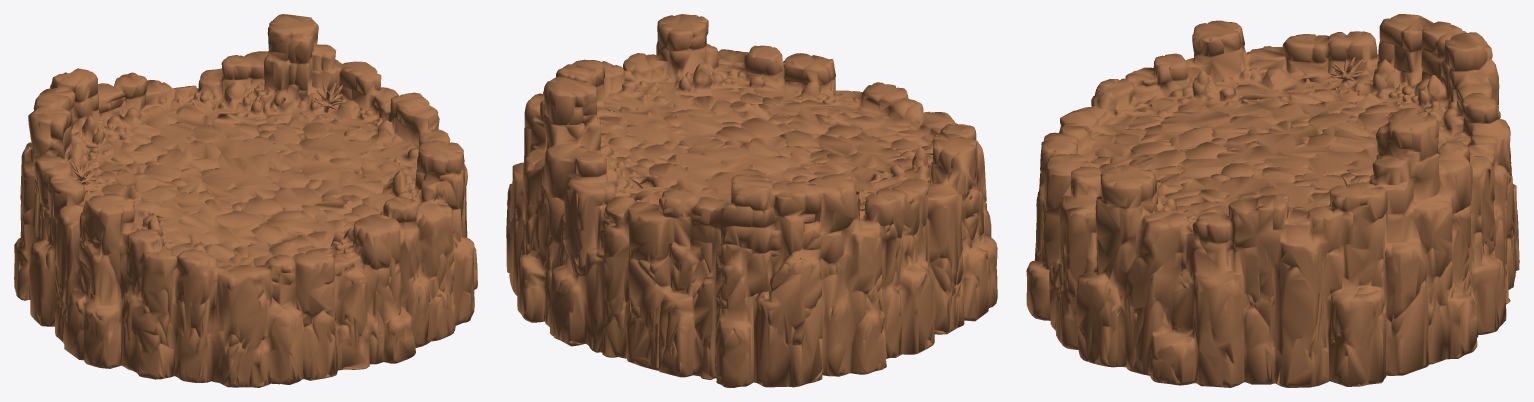
File: plataforma_rocosa_circular.glb
The picture shows the model from 3 angles, left to right: view 1: azimuth 30°, elevation 25°; view 2: azimuth 150°, elevation 25°; view 3: azimuth 270°, elevation 25°; orthographic projection. The views are drawn at different scales.
Parts seen in each view (by area): view 1: plataforma_rocosa_circular; view 2: plataforma_rocosa_circular; view 3: plataforma_rocosa_circular.
Boxes of the visible parts, bbox=[...] form: plataforma_rocosa_circular: bbox=[14, 14, 477, 387]; plataforma_rocosa_circular: bbox=[506, 14, 997, 387]; plataforma_rocosa_circular: bbox=[1026, 14, 1519, 387].
Size of what is drawn, in the model's own units: 6 by 2.99 by 5.93.
1 material, 1 textured.
